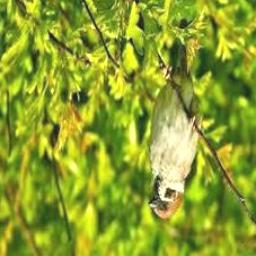Sparrow: (148, 19, 201, 219)
